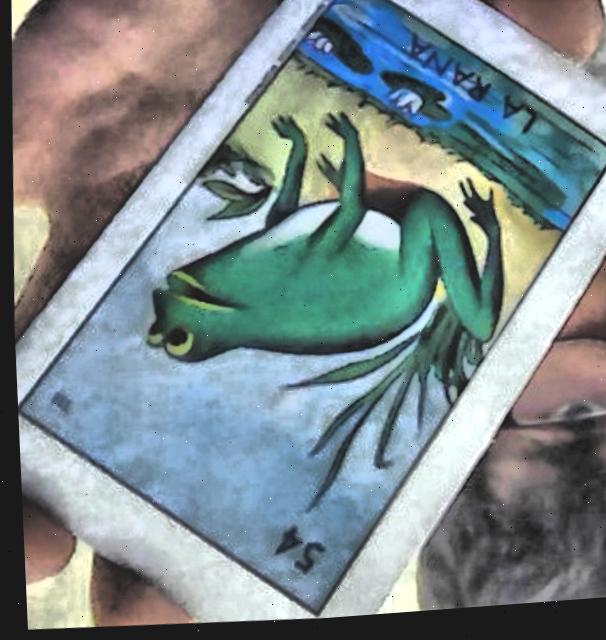La Rana: (14, 0, 606, 619)
